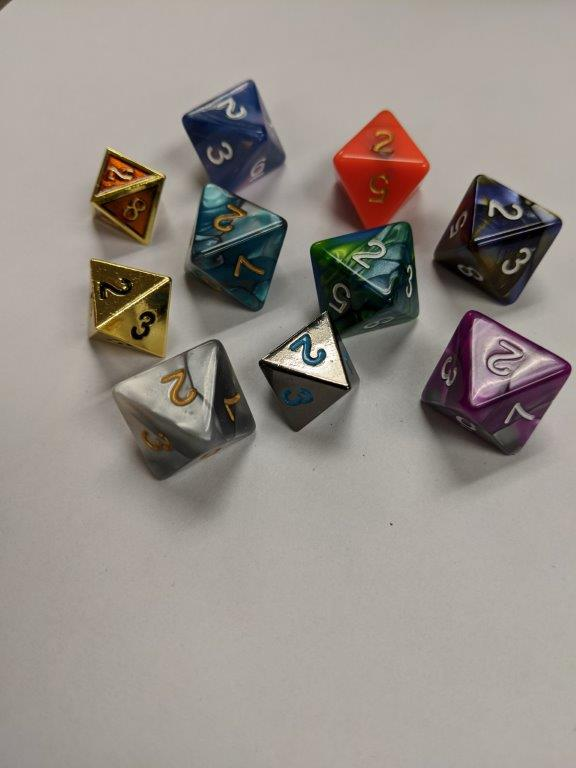d8-2: (415, 308, 570, 456), (109, 340, 256, 482), (433, 172, 562, 307), (186, 182, 290, 316), (256, 310, 359, 433), (315, 220, 420, 339), (181, 79, 288, 193), (336, 107, 431, 231), (88, 258, 174, 362), (86, 144, 167, 247)
